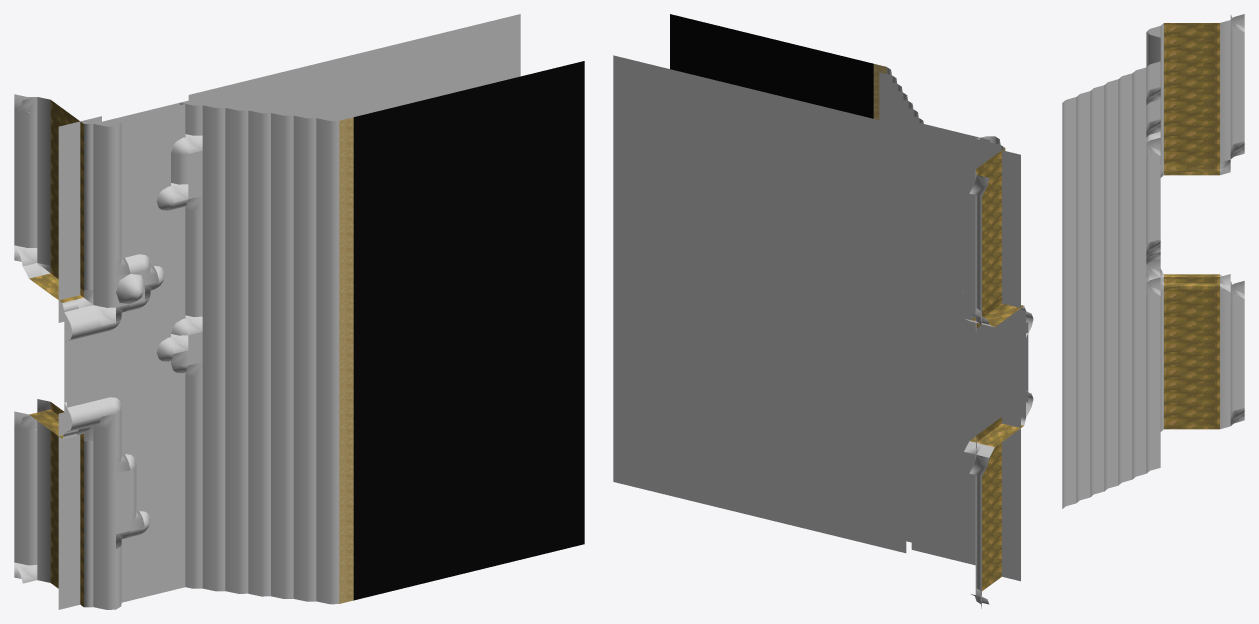
The model's file is Shallow-Cove_02_01.obj.
3 renders of one model, left to right at view 1: azimuth 30°, elevation 25°; view 2: azimuth 150°, elevation 25°; view 3: azimuth 270°, elevation 25°, orthographic. The views are drawn at different scales.
Parts seen in each view (by area): view 1: map; view 2: map; view 3: map.
Boxes of the visible parts, box(x1,y1,x2,y2) form: map: box(14, 14, 584, 609); map: box(613, 14, 1033, 608); map: box(1062, 14, 1244, 508).
Size of the model in its own units: 32 by 32 by 13.
